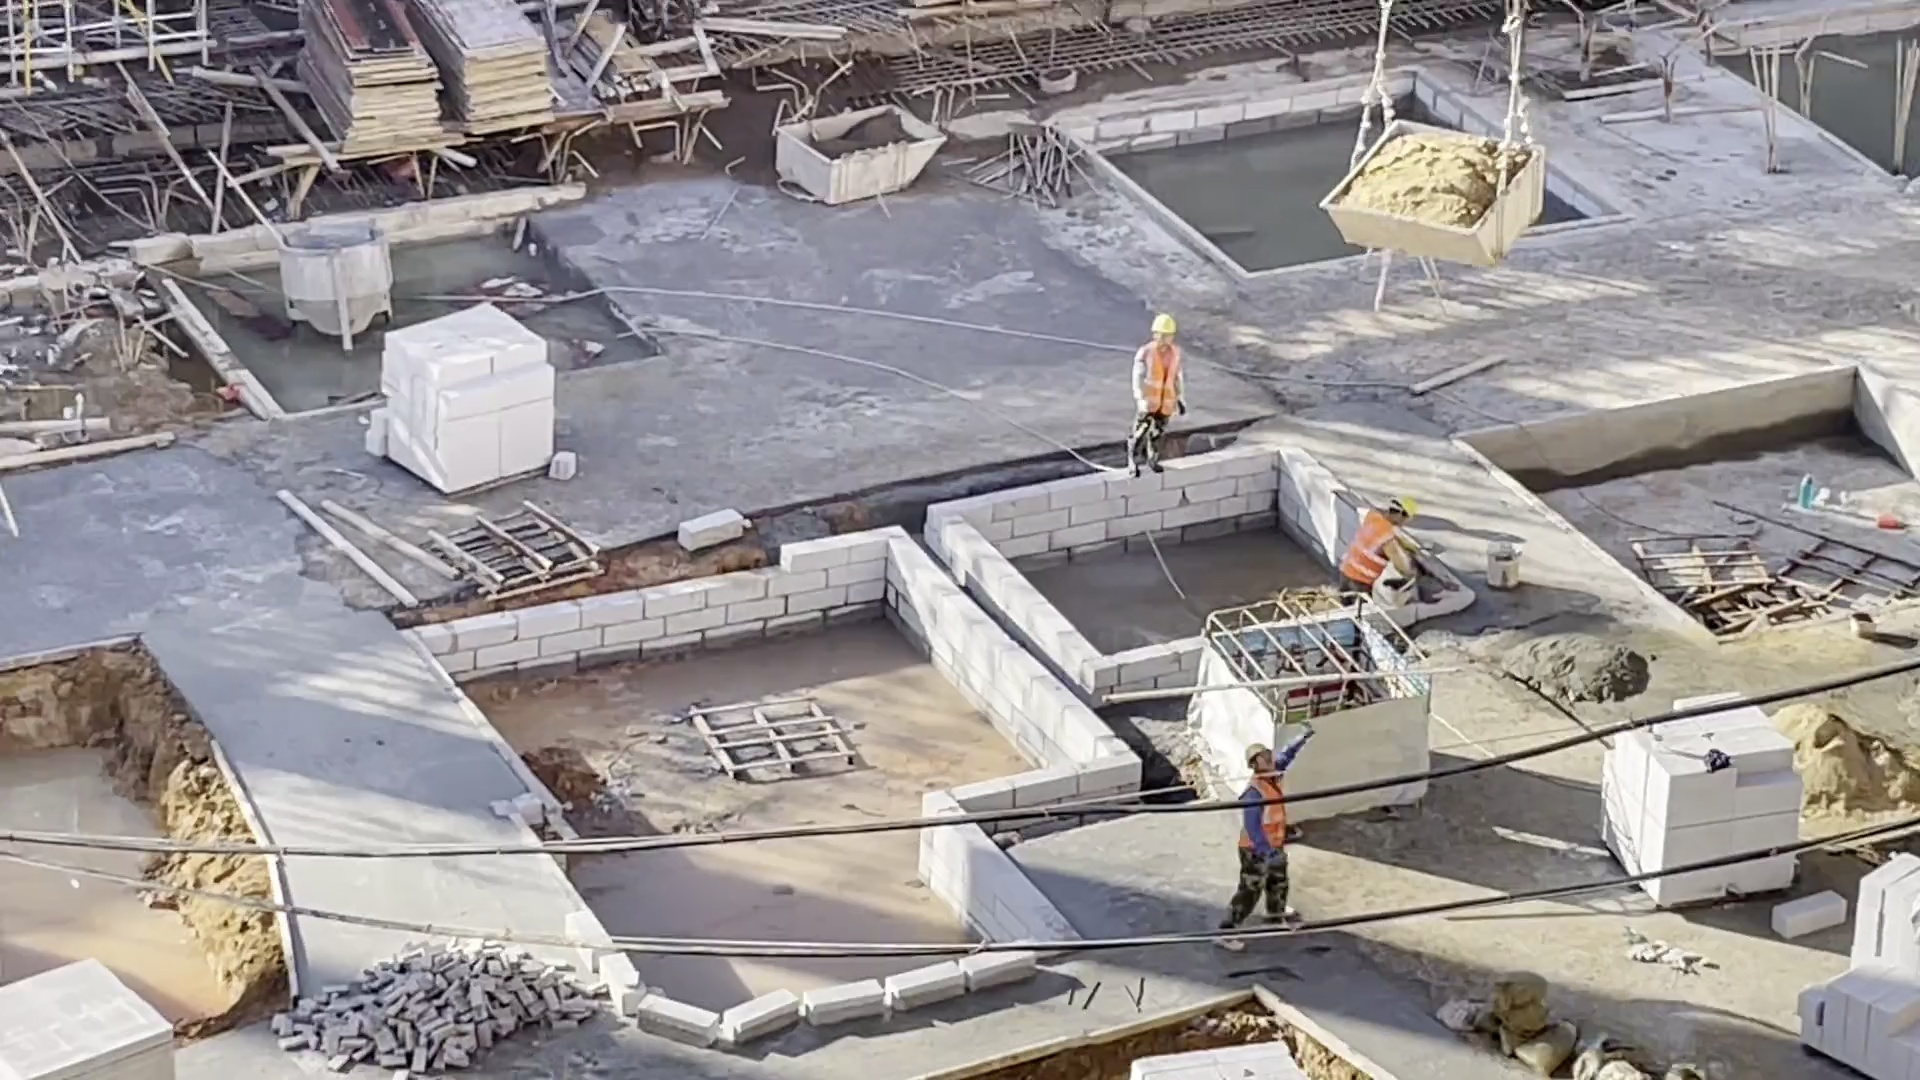board: (289, 4, 447, 167), (407, 2, 559, 142)
brick: (361, 300, 587, 494), (1787, 848, 1918, 1080), (1595, 745, 1808, 850), (4, 960, 180, 1080)
helmet: (1148, 313, 1181, 338), (1388, 493, 1418, 520)
hopper: (1308, 117, 1558, 271), (770, 105, 951, 201), (278, 223, 396, 358)
person: (1118, 309, 1207, 480), (1321, 489, 1419, 605), (1222, 808, 1303, 926)
vest: (1334, 510, 1394, 586), (1131, 341, 1182, 418)
